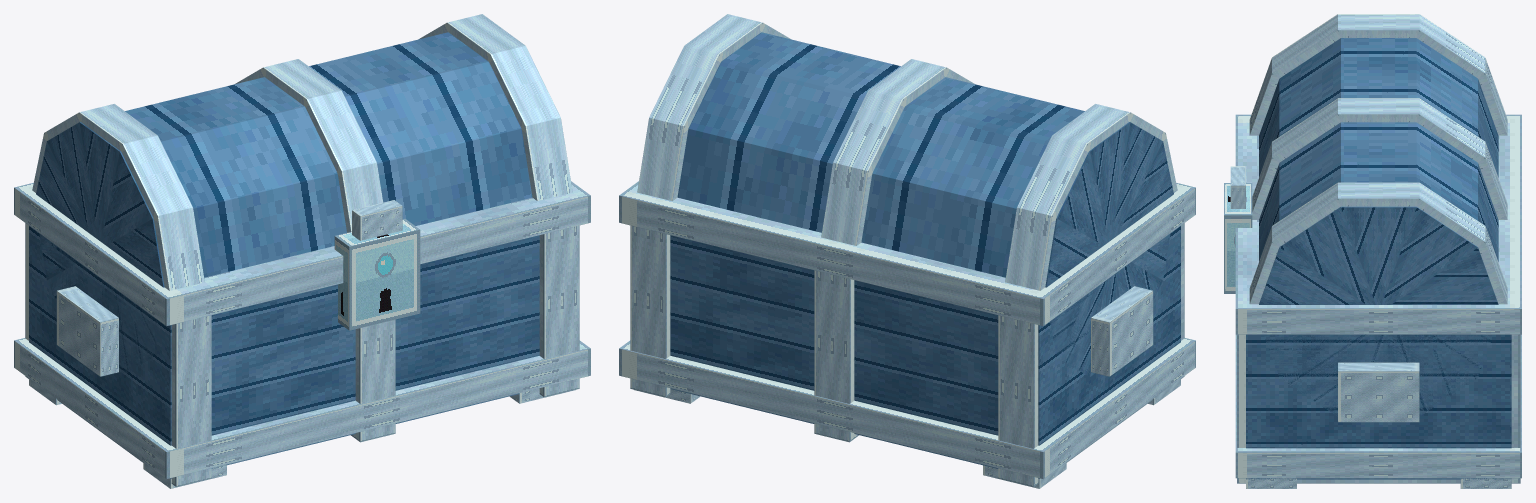
The model's file is bau_de_gelo.glb.
The picture shows the model from 3 angles, left to right: view 1: azimuth 30°, elevation 25°; view 2: azimuth 150°, elevation 25°; view 3: azimuth 270°, elevation 25°; orthographic projection. The views are drawn at different scales.
Parts seen in each view (by area): view 1: bau_de_gelo; view 2: bau_de_gelo; view 3: bau_de_gelo.
Boxes of the visible parts, x1,y1,x2,y2 form: bau_de_gelo: (14, 14, 590, 488); bau_de_gelo: (619, 14, 1195, 488); bau_de_gelo: (1224, 14, 1521, 488).
Size of the model in its own units: 0.95 by 0.6254 by 0.5825.
Materials: 1 (1 with a texture image).
